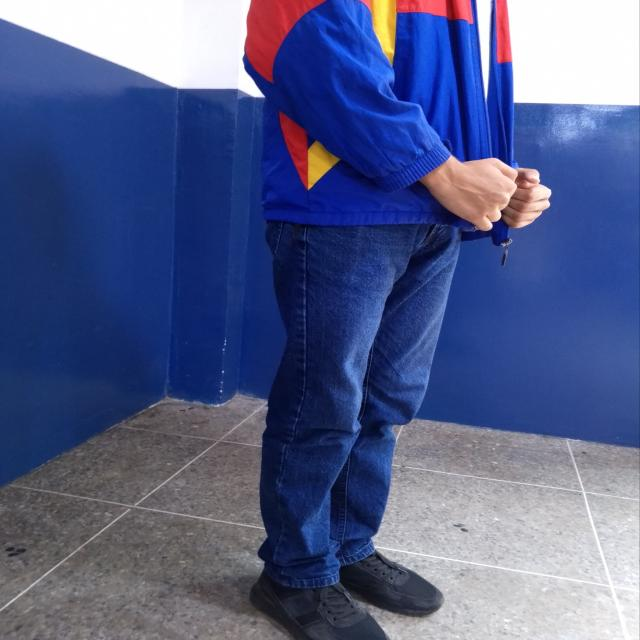chaqueta_unefa: (243, 0, 513, 246)
pantalon_oscuro: (258, 220, 460, 590)
